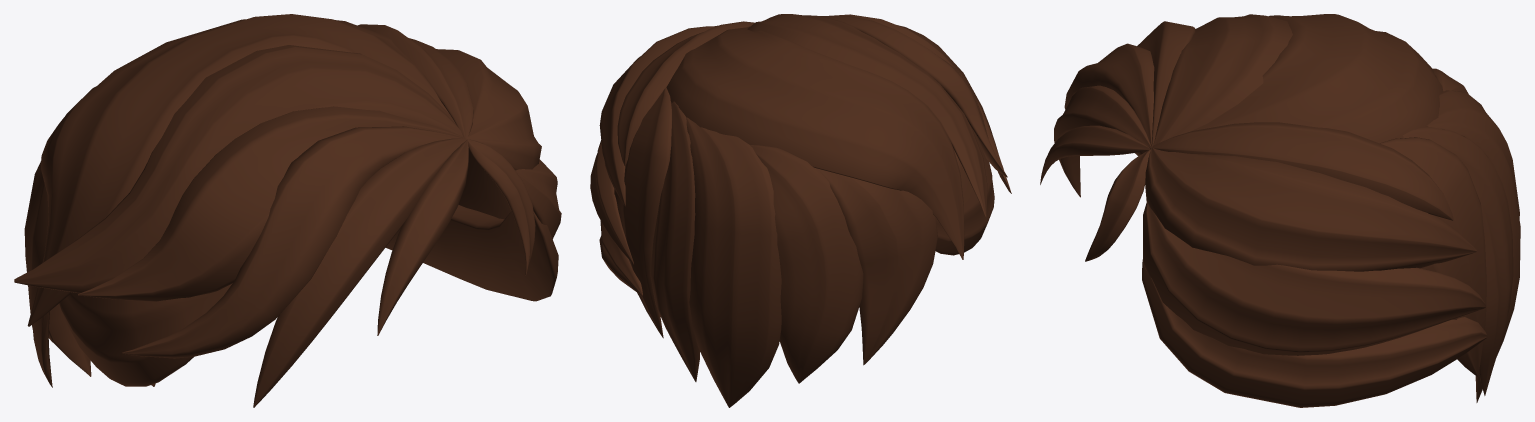
3 views of the same model, side by side, from view 1: azimuth 30°, elevation 25°; view 2: azimuth 150°, elevation 25°; view 3: azimuth 270°, elevation 25° (orthographic). The views are drawn at different scales.
Parts seen in each view (by area): view 1: hairShortFringeParted; view 2: hairShortFringeParted; view 3: hairShortFringeParted.
Boxes of the visible parts, x1=… form: hairShortFringeParted: x1=14, y1=14, x2=561, y2=407; hairShortFringeParted: x1=590, y1=14, x2=1011, y2=407; hairShortFringeParted: x1=1040, y1=14, x2=1520, y2=407.
Bounding box in the file's own units: 0.5522 × 0.4318 × 0.5014.
Materials: 1 (1 with a texture image).
